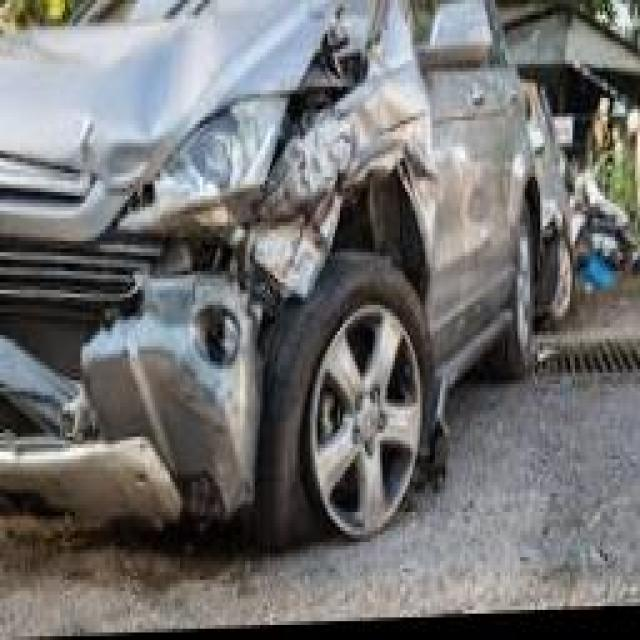Bonnet: (58, 4, 364, 189)
Bumper: (6, 268, 263, 520)
Fender: (223, 44, 460, 300)
Light: (118, 91, 290, 235)
